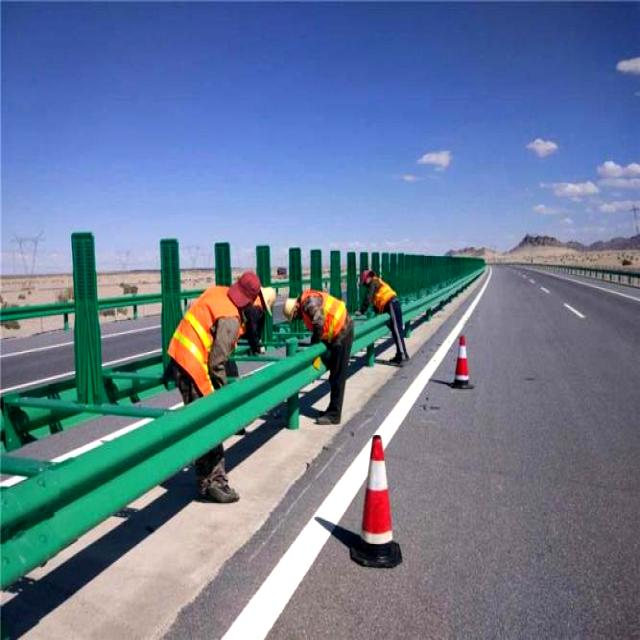Guard rail: (0, 345, 325, 588), (403, 271, 481, 321), (352, 316, 388, 353)
